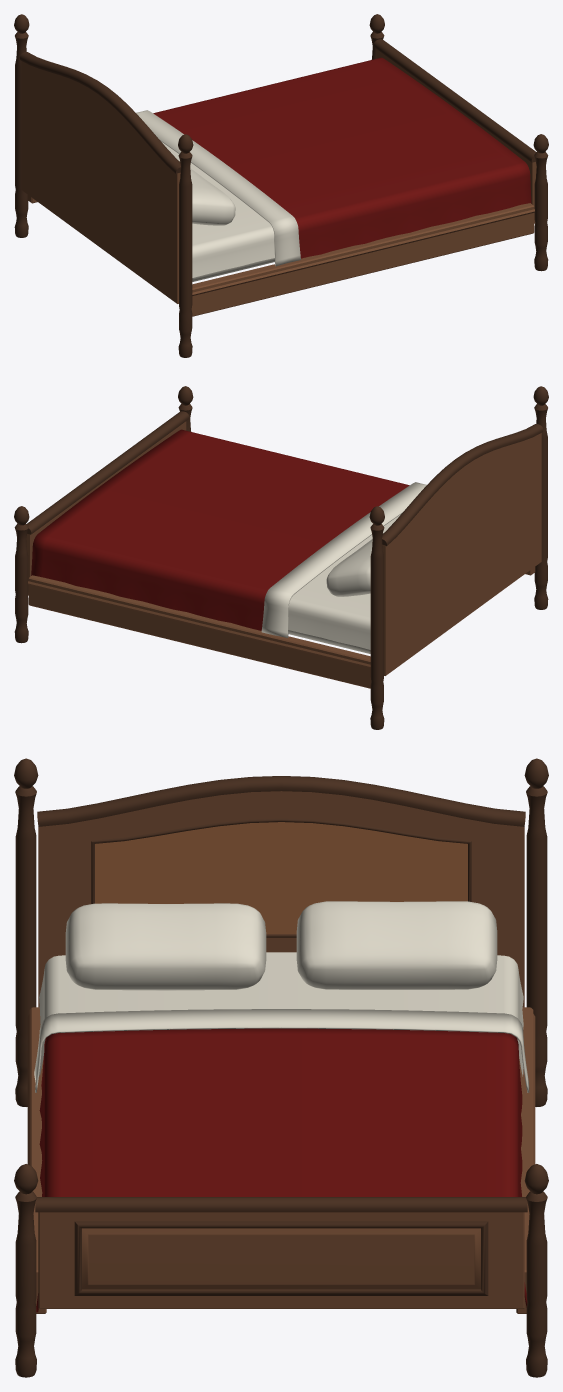
The model's file is hotel_bed.glb.
3 renders of one model, top to bottom at view 1: azimuth 30°, elevation 25°; view 2: azimuth 150°, elevation 25°; view 3: azimuth 270°, elevation 25°, orthographic. The views are drawn at different scales.
Visible parts, largest first — view 1: tagesdecke, kopfteil, zargen, pfosten, laken, umschlag, abdeckleiste, fuss_leisten, kissen0, fussteil; view 2: tagesdecke, kopfteil, zargen, pfosten, laken, umschlag, abdeckleiste, fuss_leisten, kissen1, fussteil; view 3: tagesdecke, fussteil, furnier, kopfteil, pfosten, kissen1, kissen0, fuss_leisten, laken, umschlag, abdeckleiste, zargen (+1 smaller).
Boxes of the visible parts, <box> form: tagesdecke: <box>153,57,531,258</box>; kopfteil: <box>21,61,180,303</box>; zargen: <box>27,195,534,316</box>; pfosten: <box>14,14,548,357</box>; laken: <box>162,142,274,277</box>; umschlag: <box>136,110,300,266</box>; abdeckleiste: <box>19,52,180,174</box>; fuss_leisten: <box>373,39,536,162</box>; kissen0: <box>190,168,235,225</box>; fussteil: <box>376,49,536,223</box>; tagesdecke: <box>31,429,409,630</box>; kopfteil: <box>382,433,541,675</box>; zargen: <box>28,567,535,688</box>; pfosten: <box>14,386,548,729</box>; laken: <box>288,514,400,649</box>; umschlag: <box>261,482,426,637</box>; abdeckleiste: <box>382,424,543,546</box>; fuss_leisten: <box>26,411,189,534</box>; kissen1: <box>326,539,372,596</box>; fussteil: <box>26,421,186,595</box>; tagesdecke: <box>36,1028,527,1312</box>; fussteil: <box>38,1212,524,1308</box>; furnier: <box>95,822,467,934</box>; kopfteil: <box>38,791,524,1007</box>; pfosten: <box>14,758,548,1377</box>; kissen1: <box>296,901,497,989</box>; kissen0: <box>65,903,266,990</box>; fuss_leisten: <box>35,1197,527,1295</box>; laken: <box>39,952,523,1076</box>; umschlag: <box>34,1009,529,1092</box>; abdeckleiste: <box>37,776,525,826</box>; zargen: <box>27,1007,535,1313</box>.
Bounding box in the file's own units: 2.18 × 1.25 × 1.76.
